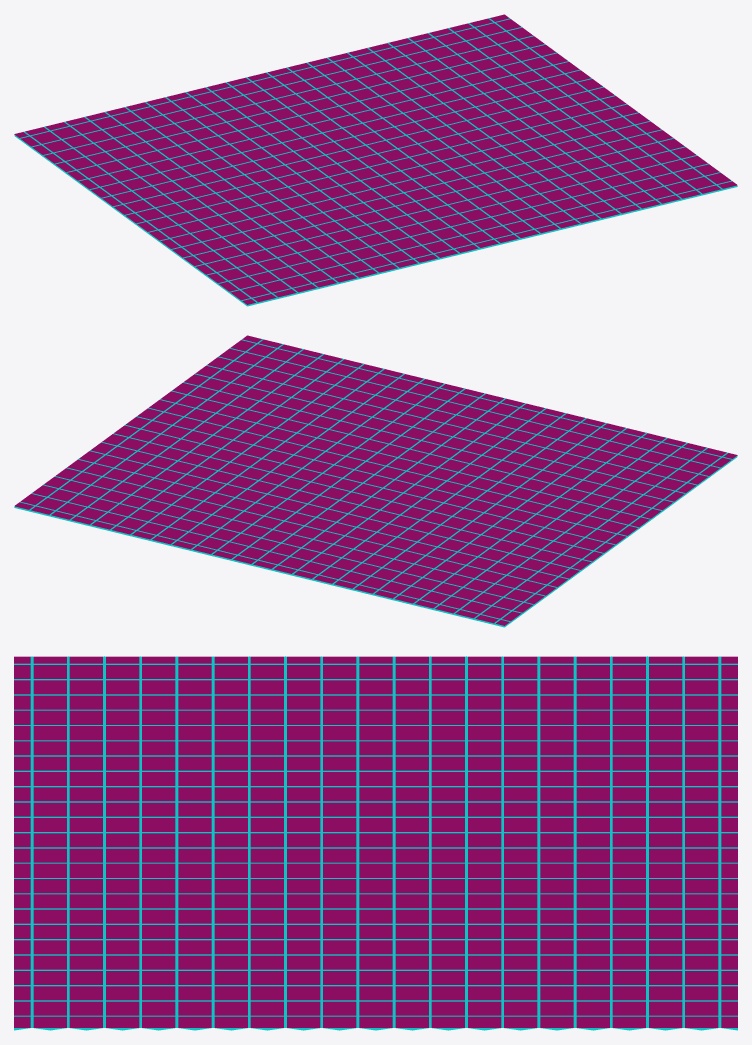
File: desktop_floor.glb
3 renders of one model, top to bottom at view 1: azimuth 30°, elevation 25°; view 2: azimuth 150°, elevation 25°; view 3: azimuth 270°, elevation 25°, orthographic. The views are drawn at different scales.
Parts seen in each view (by area): view 1: Floor, Cross; view 2: Floor, Cross; view 3: Floor, Cross.
Boxes of the visible parts, box(x1,y1,x2,y2) form: Floor: box(14, 14, 737, 304); Cross: box(14, 18, 737, 306); Floor: box(14, 335, 737, 625); Cross: box(14, 339, 737, 627); Floor: box(14, 656, 737, 1027); Cross: box(14, 656, 737, 1030).
Size of the model in its own units: 4.86 by 0.0161 by 4.
